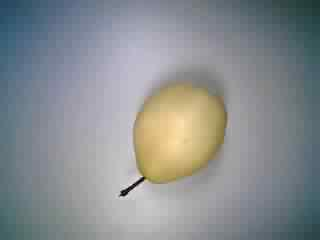pear: (113, 74, 234, 208)
